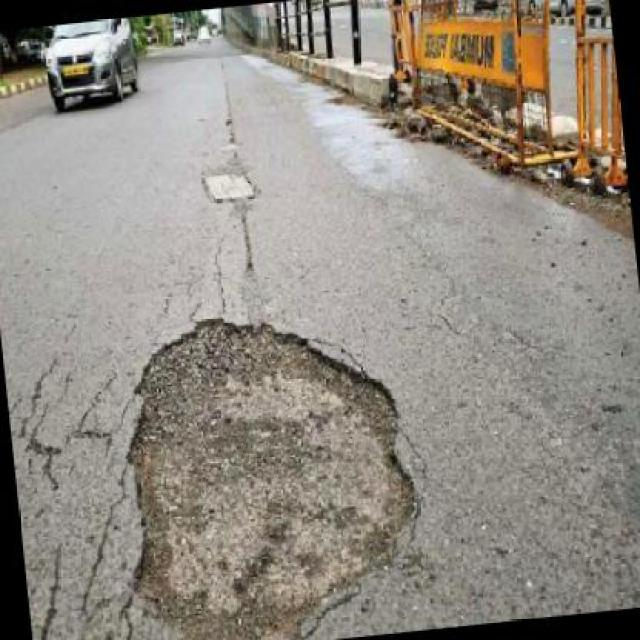pothole: (105, 286, 437, 640)
